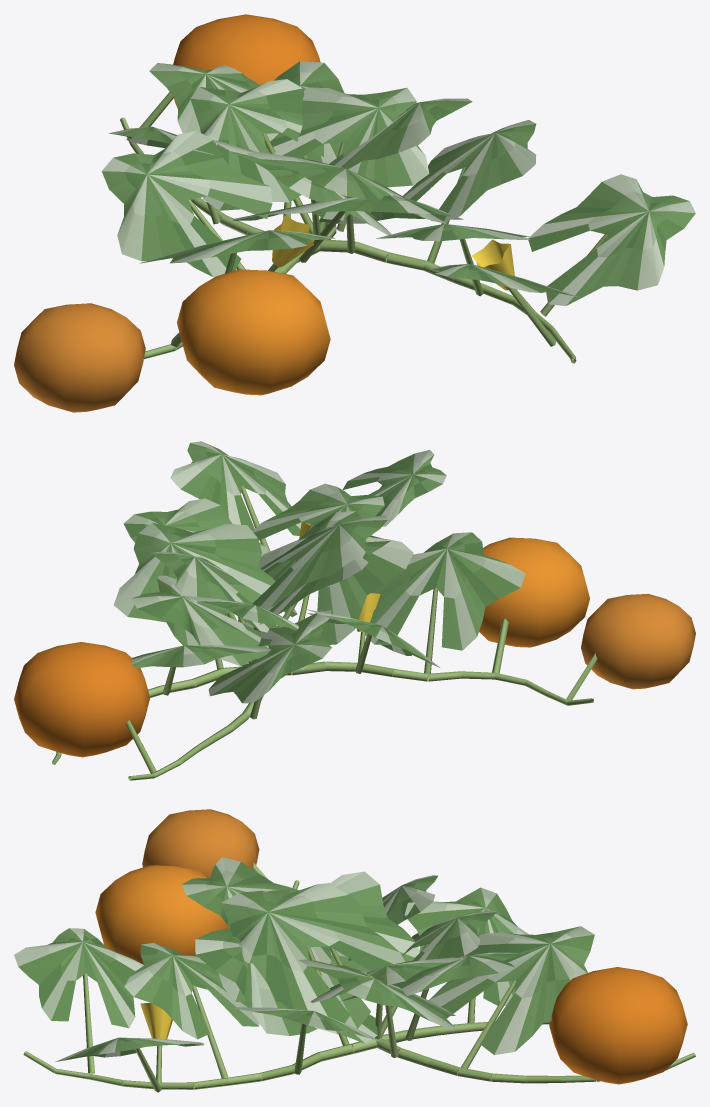
Rendered from courge_citrouille_mur.glb.
3 renders of one model, top to bottom at view 1: azimuth 30°, elevation 25°; view 2: azimuth 150°, elevation 25°; view 3: azimuth 270°, elevation 25°, orthographic. The views are drawn at different scales.
Parts seen in each view (by area): view 1: Courge_Feuilles, Courge_Fruits, Courge_Tiges, Courge_Fleurs; view 2: Courge_Feuilles, Courge_Fruits, Courge_Tiges; view 3: Courge_Feuilles, Courge_Fruits, Courge_Tiges, Courge_Fleurs.
Boxes of the visible parts, bbox=[...] form: Courge_Feuilles: bbox=[101, 61, 695, 305]; Courge_Fruits: bbox=[14, 14, 330, 412]; Courge_Tiges: bbox=[120, 92, 607, 363]; Courge_Fleurs: bbox=[272, 215, 514, 290]; Courge_Feuilles: bbox=[113, 441, 525, 703]; Courge_Fruits: bbox=[14, 537, 695, 757]; Courge_Tiges: bbox=[52, 485, 597, 780]; Courge_Feuilles: bbox=[14, 857, 594, 1061]; Courge_Fruits: bbox=[95, 809, 687, 1084]; Courge_Tiges: bbox=[23, 863, 695, 1092]; Courge_Fleurs: bbox=[140, 1002, 172, 1039].
Bounding box in the file's own units: 1.54 × 0.3455 × 1.65.
